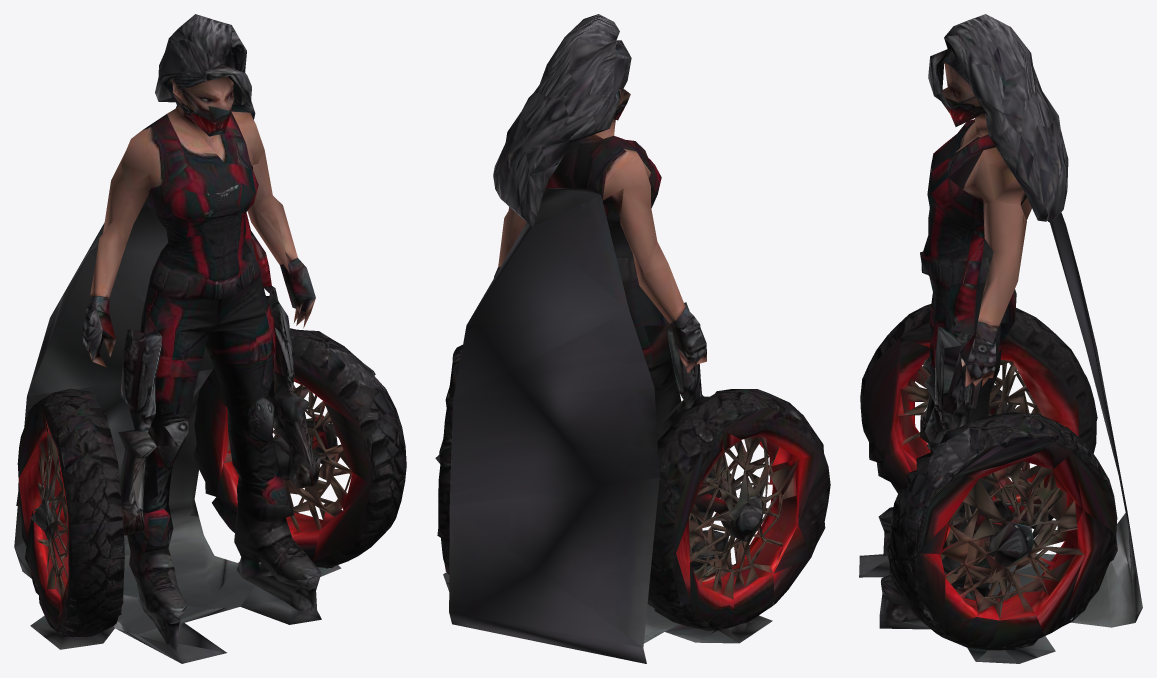
File: GM_Vixen_WarRig_v010_Soft_LOD2.glb
3 renders of one model, left to right at view 1: azimuth 30°, elevation 25°; view 2: azimuth 150°, elevation 25°; view 3: azimuth 270°, elevation 25°, orthographic.
Parts seen in each view (by area): view 1: tripo_node_dd5420c5-ae0a-471d-b06c-bc2b7939658d; view 2: tripo_node_dd5420c5-ae0a-471d-b06c-bc2b7939658d; view 3: tripo_node_dd5420c5-ae0a-471d-b06c-bc2b7939658d.
Boxes of the visible parts, box(x1,y1,x2,y2) form: tripo_node_dd5420c5-ae0a-471d-b06c-bc2b7939658d: box(14, 14, 406, 663); tripo_node_dd5420c5-ae0a-471d-b06c-bc2b7939658d: box(435, 14, 830, 663); tripo_node_dd5420c5-ae0a-471d-b06c-bc2b7939658d: box(859, 14, 1142, 663).
Size of the model in its own units: 0.6225 by 0.9803 by 0.4334.
Materials: 1 (1 with a texture image).
